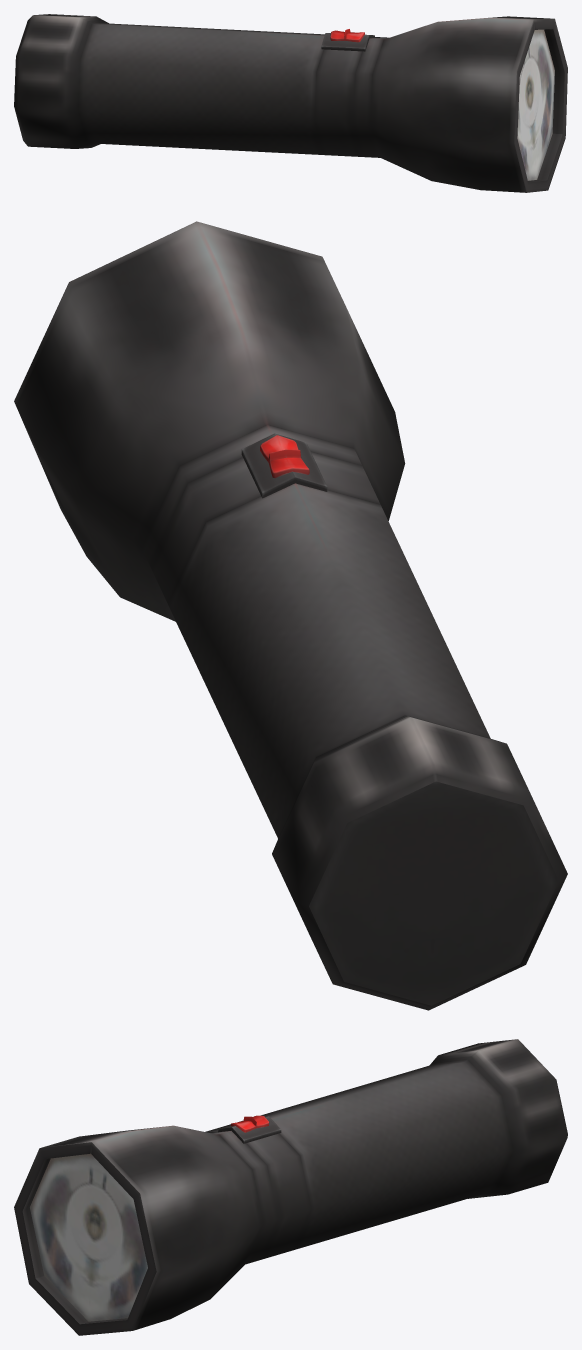
The model's file is CeSuo_01_shoudiantong_01.FBX.
3 views of the same model, one above another, from view 1: azimuth 30°, elevation 25°; view 2: azimuth 150°, elevation 25°; view 3: azimuth 270°, elevation 25° (orthographic). The views are drawn at different scales.
Visible parts, largest first — view 1: CeSuo_01_shoudiantong_01; view 2: CeSuo_01_shoudiantong_01; view 3: CeSuo_01_shoudiantong_01.
Part boxes in pixels (x1,y1,x2,y2): CeSuo_01_shoudiantong_01: [14, 14, 567, 192]; CeSuo_01_shoudiantong_01: [14, 221, 567, 1010]; CeSuo_01_shoudiantong_01: [14, 1039, 567, 1335].
Size of the model in its own units: 87.11 by 37.75 by 90.05.
